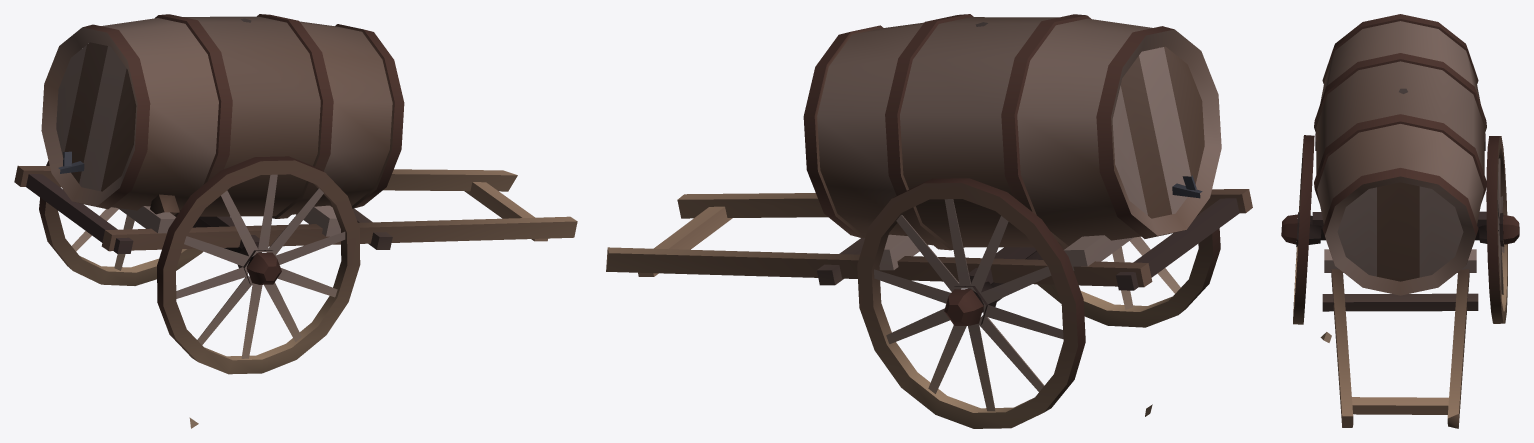
Rendered from prop_water_cart.glb.
The picture shows the model from 3 angles, left to right: view 1: azimuth 30°, elevation 25°; view 2: azimuth 150°, elevation 25°; view 3: azimuth 270°, elevation 25°; orthographic projection. The views are drawn at different scales.
Visible parts, largest first — view 1: prop_water_cart_mesh; view 2: prop_water_cart_mesh; view 3: prop_water_cart_mesh.
Boxes of the visible parts, <box> form: prop_water_cart_mesh: <box>14,14,577,428</box>; prop_water_cart_mesh: <box>606,14,1252,428</box>; prop_water_cart_mesh: <box>1281,14,1519,428</box>.
Bounding box in the file's own units: 3.2 × 2.34 × 1.63.
